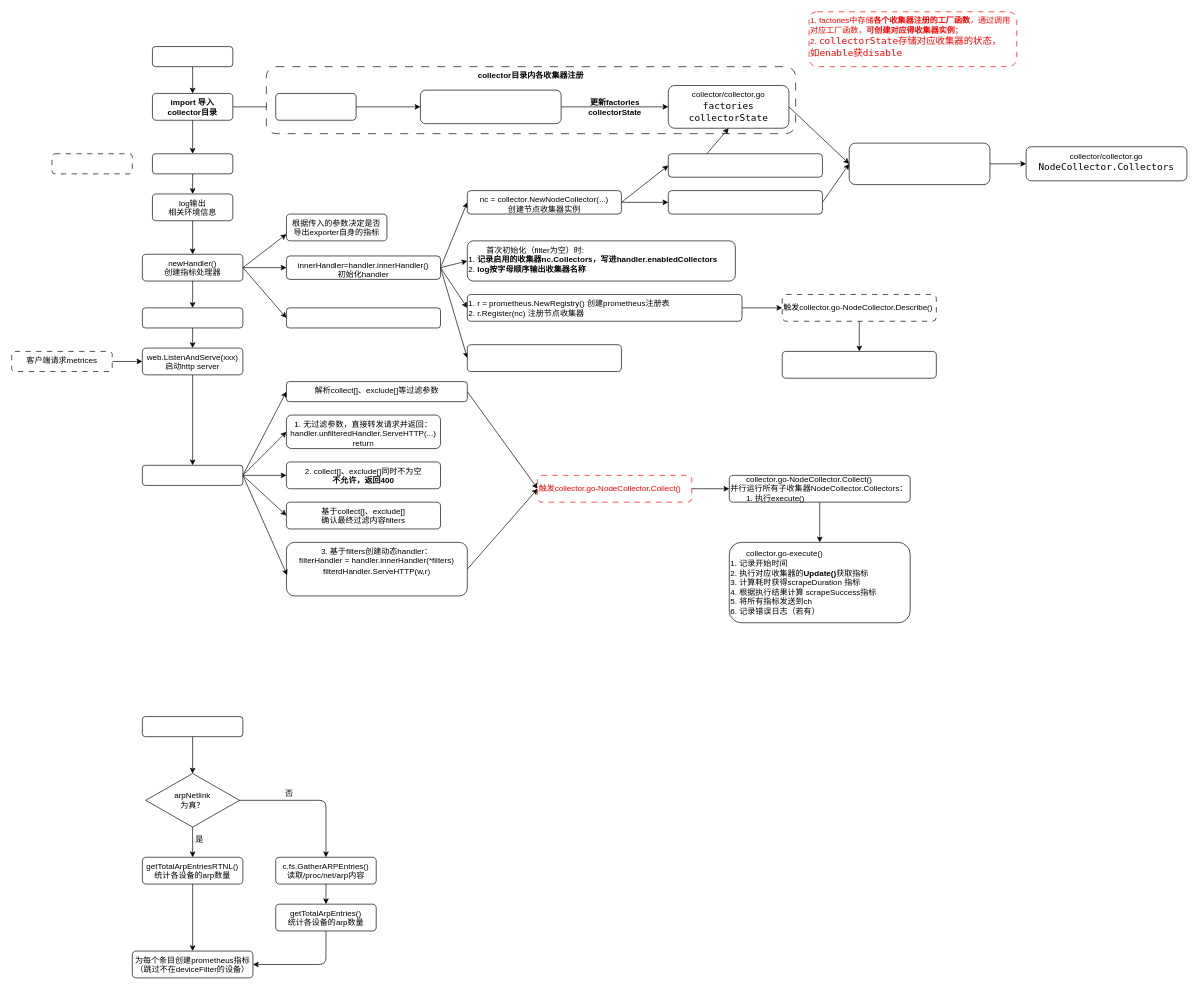
This 1199x990 diagram has some shape labels left out. The shapes that lost their labels are listed below. From the top down, each one's centre as x and y in pixels, then its label:
At point (192, 56): "node_exporter.go".
At point (315, 106): "collector/xxx.go: init()".
At point (490, 106): "collector/collector.go registerCollector(...)".
At point (91, 163): "进入main()".
At point (192, 163): "参数解析".
At point (745, 165): "initiatedCollectors无对应注册器实例".
At point (919, 163): "collector/collector.go initiatedCollectors".
At point (745, 202): "initiatedCollectors有对应注册器实例".
At point (192, 317): "配置metrices的API端点".
At point (363, 317): "handler.unfilterHandler= innerHandler".
At point (544, 358): "构造http handler".
At point (859, 364): "ch <- scrapeDurationDesc; ch <- scrapeSuccessDesc;".
At point (192, 475): "ServeHTTP()".
At point (192, 726): "arp_linux.go-Update()".
